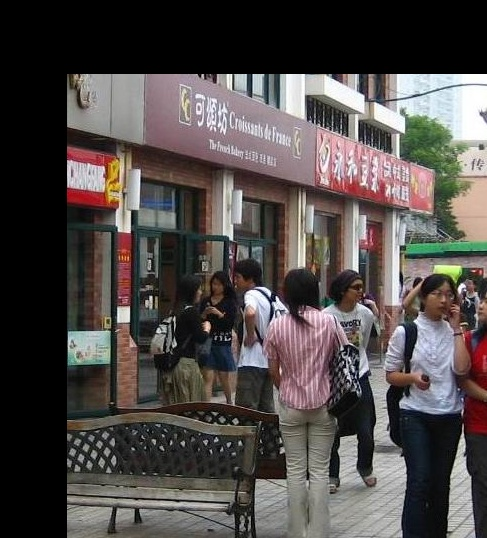person: (381, 261, 461, 538), (272, 270, 346, 538), (158, 272, 207, 421), (468, 275, 487, 538), (204, 269, 237, 395)
